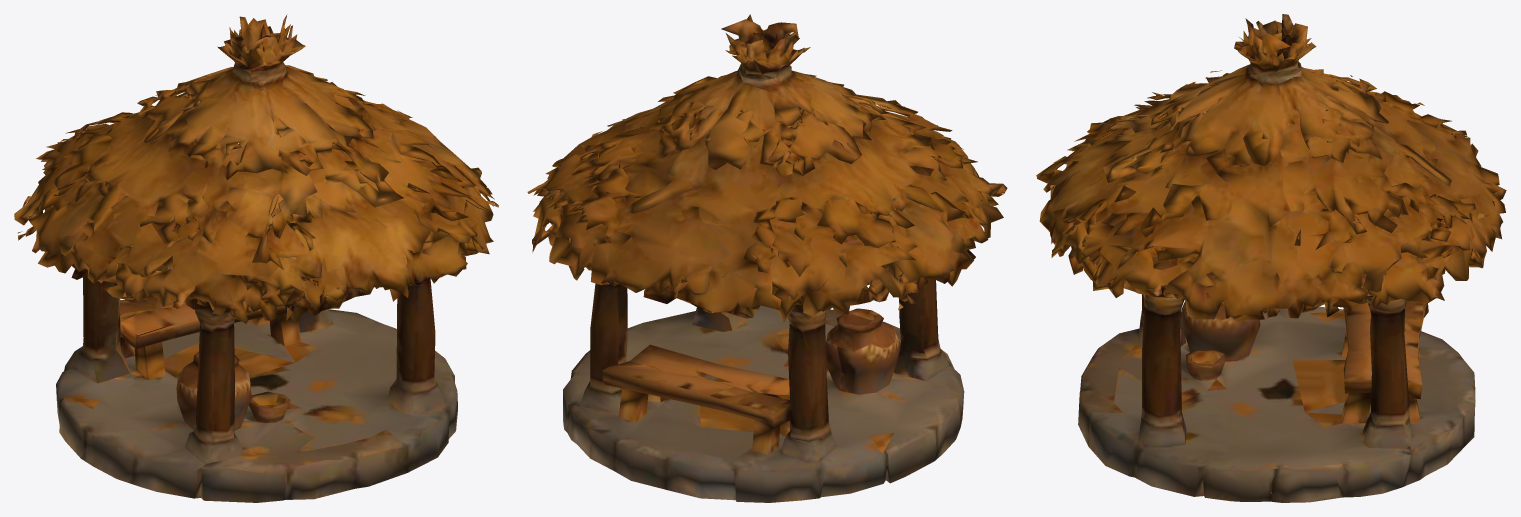
File: rest-pavilion.glb
The picture shows the model from 3 angles, left to right: view 1: azimuth 30°, elevation 25°; view 2: azimuth 150°, elevation 25°; view 3: azimuth 270°, elevation 25°; orthographic projection.
Parts seen in each view (by area): view 1: 1_output_1793794049279802_muVuDvhVZ; view 2: 1_output_1793794049279802_muVuDvhVZ; view 3: 1_output_1793794049279802_muVuDvhVZ.
Boxes of the visible parts, x1=… form: 1_output_1793794049279802_muVuDvhVZ: x1=14, y1=14, x2=498, y2=502; 1_output_1793794049279802_muVuDvhVZ: x1=527, y1=14, x2=1007, y2=502; 1_output_1793794049279802_muVuDvhVZ: x1=1036, y1=14, x2=1506, y2=502.
Bounding box in the file's own units: 1.97 × 1.82 × 1.95.
1 material, 1 textured.
